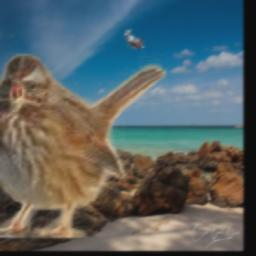Sparrow: (0, 52, 168, 238)
Woodpecker: (125, 29, 145, 49)
